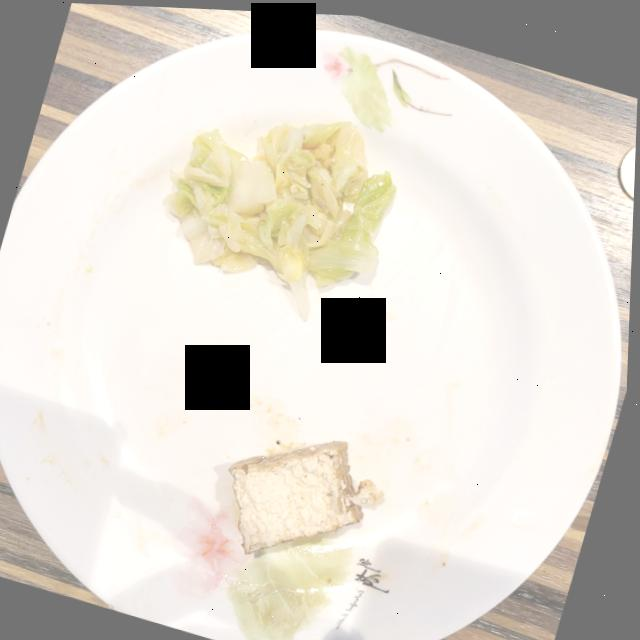cabbage: (168, 118, 395, 316)
coin: (620, 139, 637, 193)
egg tofu: (231, 437, 385, 551)
